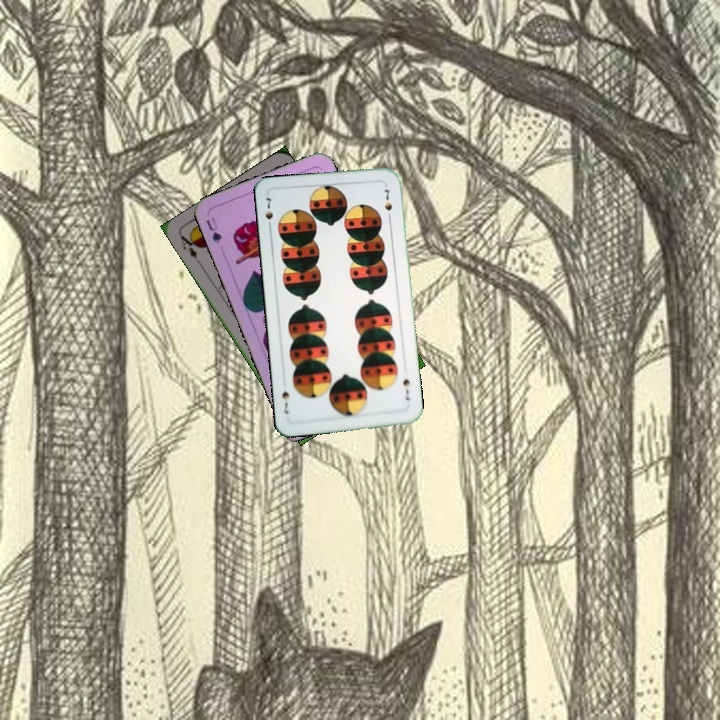EA: (177, 230, 203, 267)
GU: (202, 213, 224, 246)
S7: (261, 193, 276, 233), (399, 375, 412, 403)
